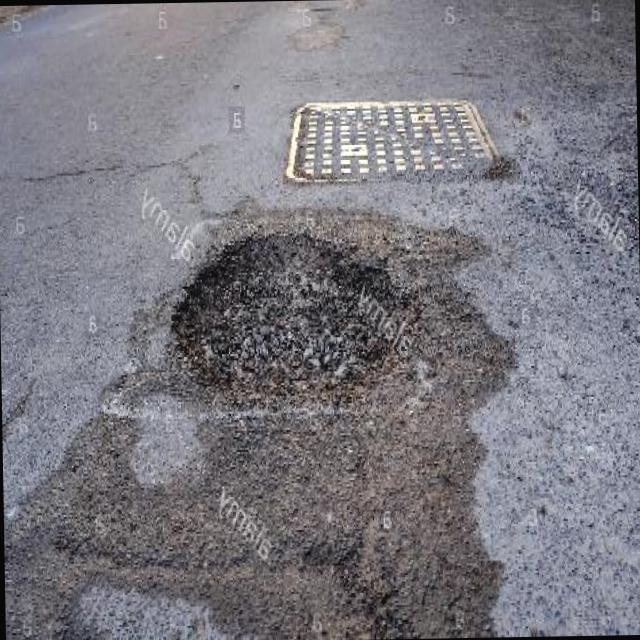Lubang: (171, 232, 410, 391)
